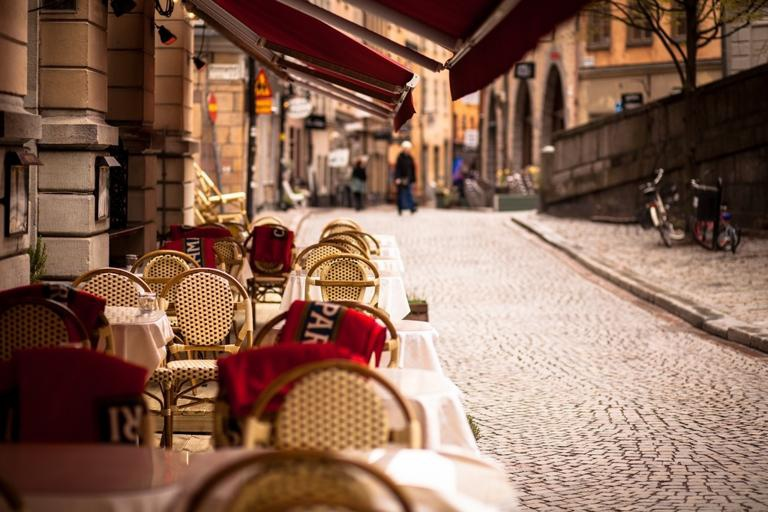non-vehicle: (687, 167, 740, 254), (637, 167, 687, 247)
